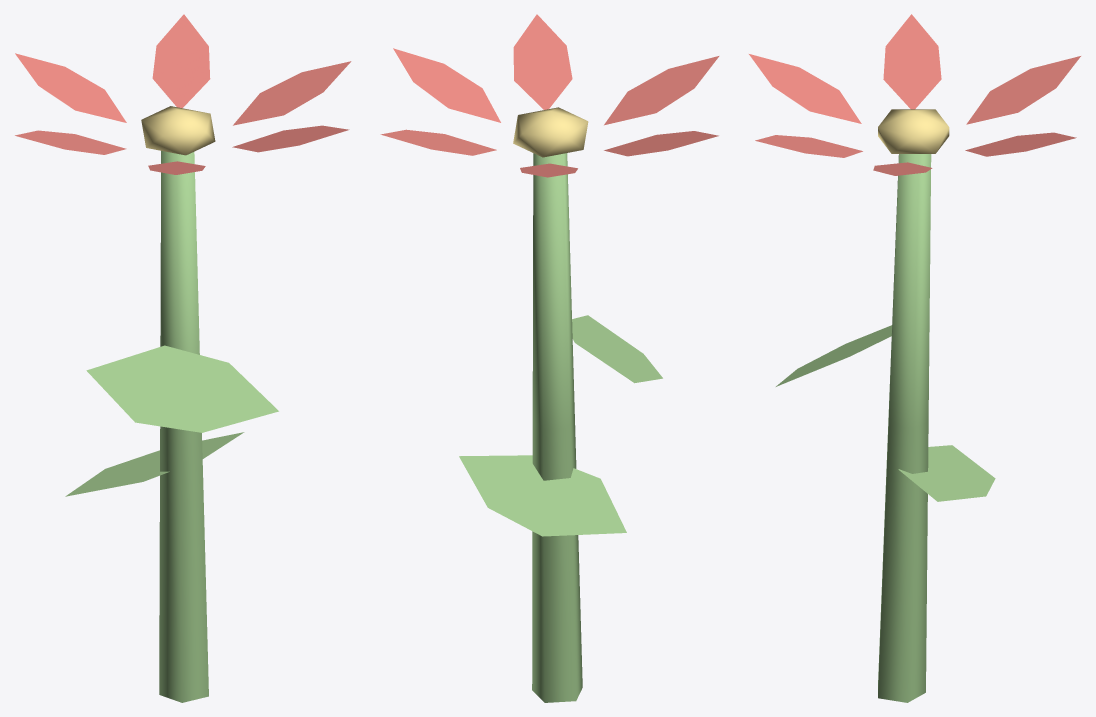
The model's file is flower_red.glb.
3 views of the same model, side by side, from view 1: azimuth 30°, elevation 25°; view 2: azimuth 150°, elevation 25°; view 3: azimuth 270°, elevation 25° (orthographic).
Parts seen in each view (by area): view 1: flower_red; view 2: flower_red; view 3: flower_red.
Part boxes in pixels (x1,y1,x2,y2): flower_red: (15, 14, 351, 702); flower_red: (380, 14, 719, 702); flower_red: (749, 14, 1080, 702).
Bounding box in the file's own units: 0.1734 × 0.2982 × 0.1506.
